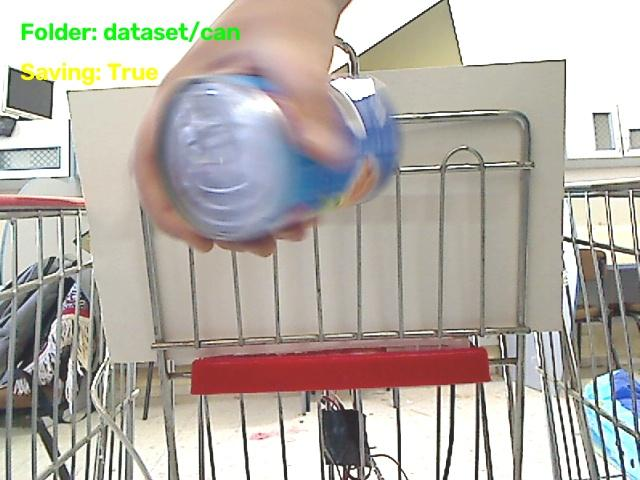can: (158, 75, 398, 240)
